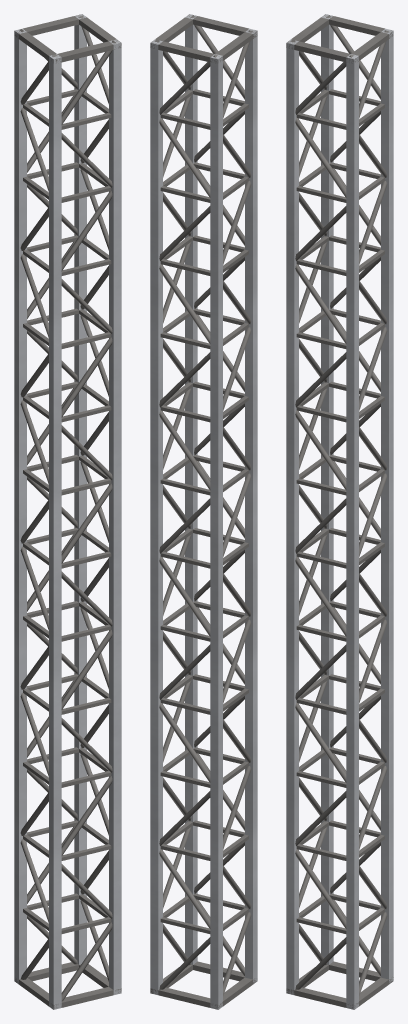
File: struct00_box_girder_s_8.glb
3 renders of one model, left to right at view 1: azimuth 30°, elevation 25°; view 2: azimuth 150°, elevation 25°; view 3: azimuth 330°, elevation 25°, orthographic.
Visible parts, largest first — view 1: longerons, lacing, end_frames; view 2: longerons, lacing, end_frames; view 3: longerons, lacing, end_frames.
Part boxes in pixels (bbox=[...]): longerons: bbox=[14, 14, 121, 1009]; lacing: bbox=[19, 15, 115, 1001]; end_frames: bbox=[14, 14, 121, 1009]; longerons: bbox=[150, 14, 257, 1009]; lacing: bbox=[154, 15, 252, 995]; end_frames: bbox=[150, 14, 257, 1008]; longerons: bbox=[286, 14, 393, 1009]; lacing: bbox=[290, 15, 388, 995]; end_frames: bbox=[286, 14, 393, 1009].
Bounding box in the file's own units: 0.6 × 8.02 × 0.6.
Materials: 2 (2 with a texture image).
